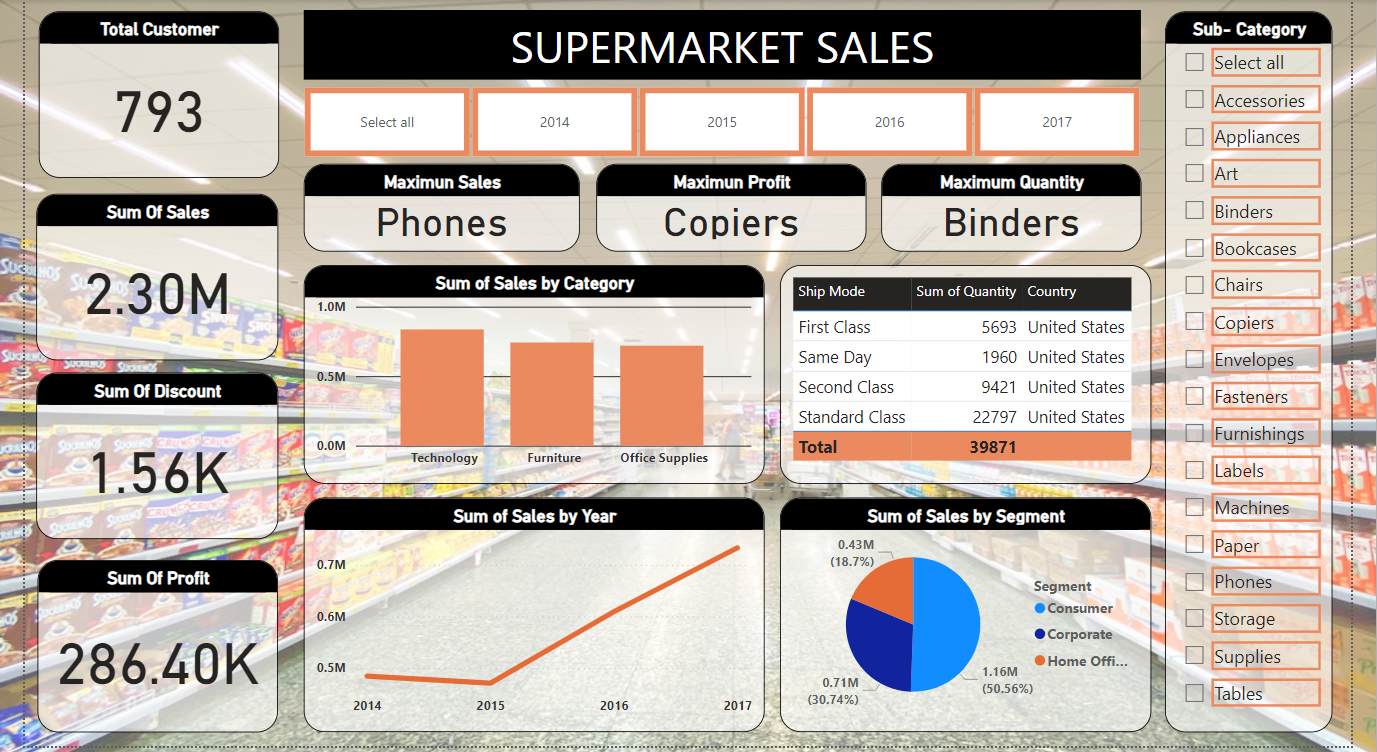

The dashboard page shown, as its layout file describes it:
{"tool":"powerbi","page":{"name":"Page 1","canvas":[1280,720],"ordinal":0},"visuals":[{"type":"textbox","box":[269,9.6,808.2,67.2],"z":0},{"type":"card","title":"Sum Of Sales","fields":{"Values":["Sum(Orders.Sales)"]},"box":[11,186.6,233.3,160.5],"z":1000},{"type":"card","title":"Sum Of Profit","fields":{"Values":["Sum(Orders.Profit)"]},"box":[12.3,540.7,231.9,166],"z":2000},{"type":"card","title":"Sum Of Discount","fields":{"Values":["Sum(Orders.Discount)"]},"box":[11,359.5,233.3,160.5],"z":3000},{"type":"card","title":"Total Customer","fields":{"Values":["Count(Orders.Customer ID)"]},"box":[13.7,11,231.9,160.5],"z":4000},{"type":"slicer","fields":{"Values":["Orders.Order Date.Variation.Date Hierarchy.Year"]},"box":[244.3,76.8,856.3,81],"z":5000},{"type":"card","title":"Maximun Sales","fields":{"Values":["Min(Orders.Sub-Category)"]},"box":[269,157.8,266.2,85.1],"z":6000},{"type":"card","title":"Maximun Profit","fields":{"Values":["Min(Orders.Sub-Category)"]},"box":[551.6,157.8,260.7,85.1],"z":7000},{"type":"card","title":"Maximum Quantity","fields":{"Values":["Min(Orders.Sub-Category)"]},"box":[826.1,157.8,251.1,85.1],"z":8000},{"type":"slicer","title":"Sub- Category","fields":{"Values":["Orders.Sub-Category"]},"box":[1100.5,11,161.9,695.7],"z":9000},{"type":"columnChart","fields":{"Category":["Orders.Category"],"Y":["Sum(Orders.Sales)"]},"box":[269,255.2,444.6,211.3],"z":10000},{"type":"tableEx","fields":{"Values":["Orders.Ship Mode","Sum(Orders.Quantity)","Orders.Country"]},"box":[728.6,255.2,358.1,211.3],"z":11000},{"type":"lineChart","fields":{"Category":["Orders.Order Date.Variation.Date Hierarchy.Year"],"Y":["Sum(Orders.Sales)"]},"box":[269,480.3,444.6,226.4],"z":12000},{"type":"pieChart","fields":{"Category":["Orders.Segment"],"Y":["Sum(Orders.Sales)"]},"box":[729,480,358,226],"z":13000}]}

Visuals, with their boxes in screenshot pixels (x1, y1, x2, y2):
textbox: 303 10 1136 79
"Sum Of Sales" card: 36 192 277 358
"Sum Of Profit" card: 38 558 277 729
"Sum Of Discount" card: 36 371 277 536
"Total Customer" card: 39 11 278 177
slicer - Orders.Order Date.Variation.Date Hierarchy.Year: 277 79 1160 163
"Maximun Sales" card: 303 163 577 251
"Maximun Profit" card: 594 163 863 251
"Maximum Quantity" card: 877 163 1136 251
"Sub- Category" slicer: 1160 11 1327 729
columnChart - Orders.Category x Sum(Orders.Sales): 303 263 761 481
tableEx - Orders.Ship Mode x Sum(Orders.Quantity): 777 263 1146 481
lineChart - Orders.Order Date.Variation.Date Hierarchy.Year x Sum(Orders.Sales): 303 495 761 729
pieChart - Orders.Segment x Sum(Orders.Sales): 777 495 1146 728
